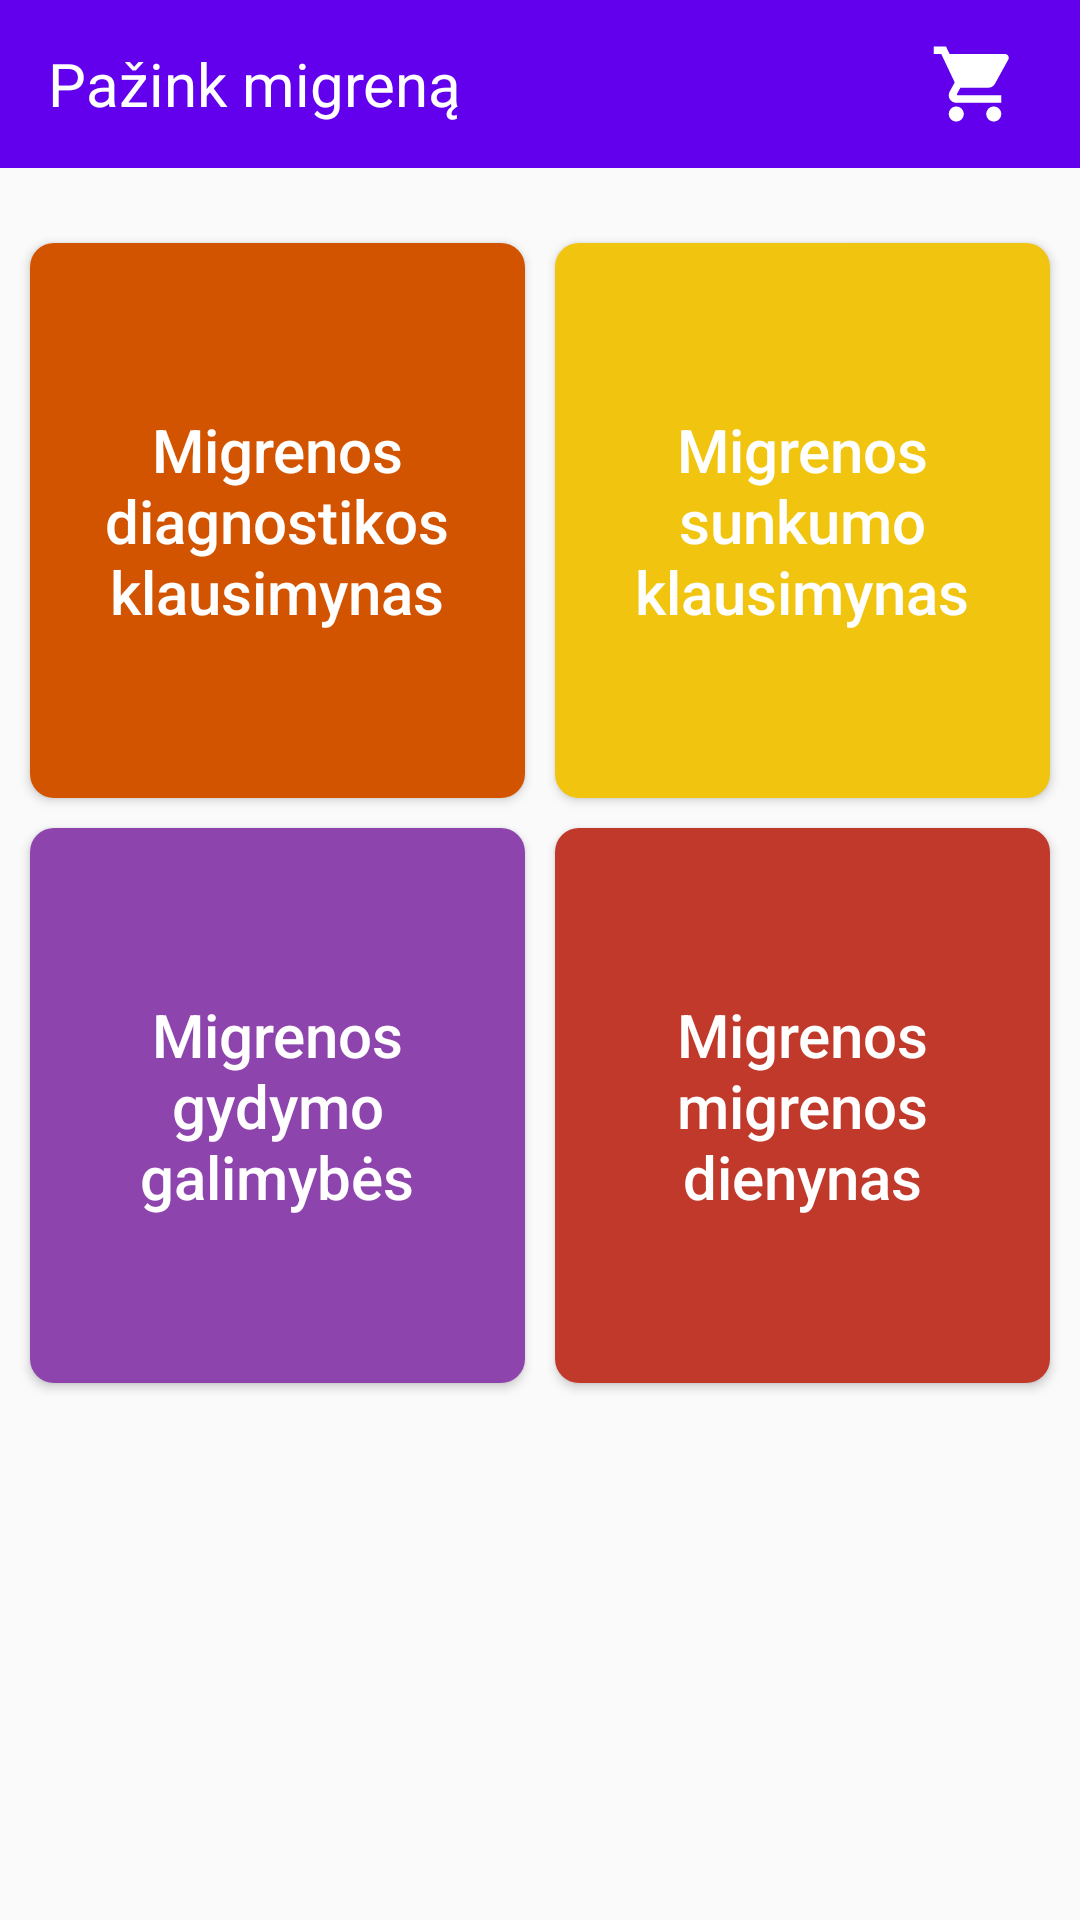

Point at icon controls on the screen. Image size 1080×1920, points as (x,y).
shopping cart: (971,84)
